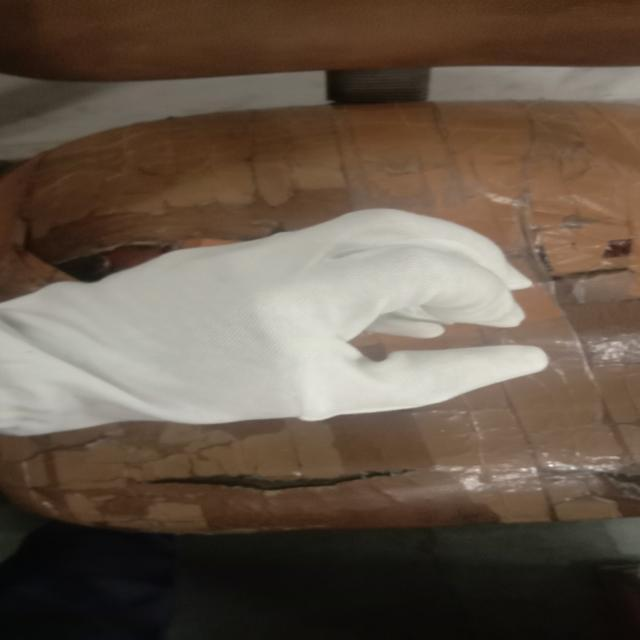glove_hand: (4, 204, 568, 443)
